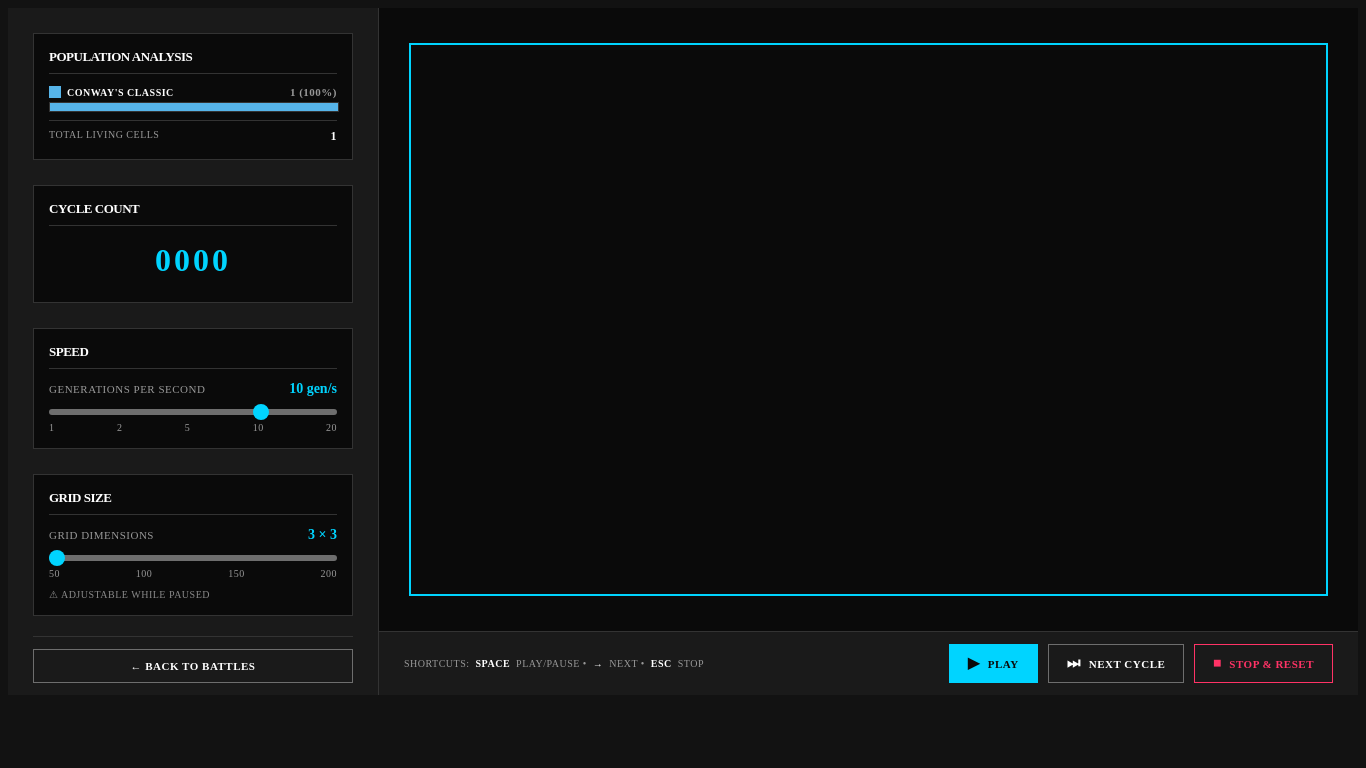
Scenario: BattleSimulationView — cycle counter & population stats (Story 3.14) › publishes the population deterministically as a lone Conway cell dies (AC1, AC3, AC6)
Expected: the number of list items is 1, [49, 86, 337, 112]
Expected: the text "Conway's Classic" is shown, [67, 86, 174, 98]
Click the button "⏭ Next cycle".
click(1116, 664)  # box [1048, 644, 1184, 683]
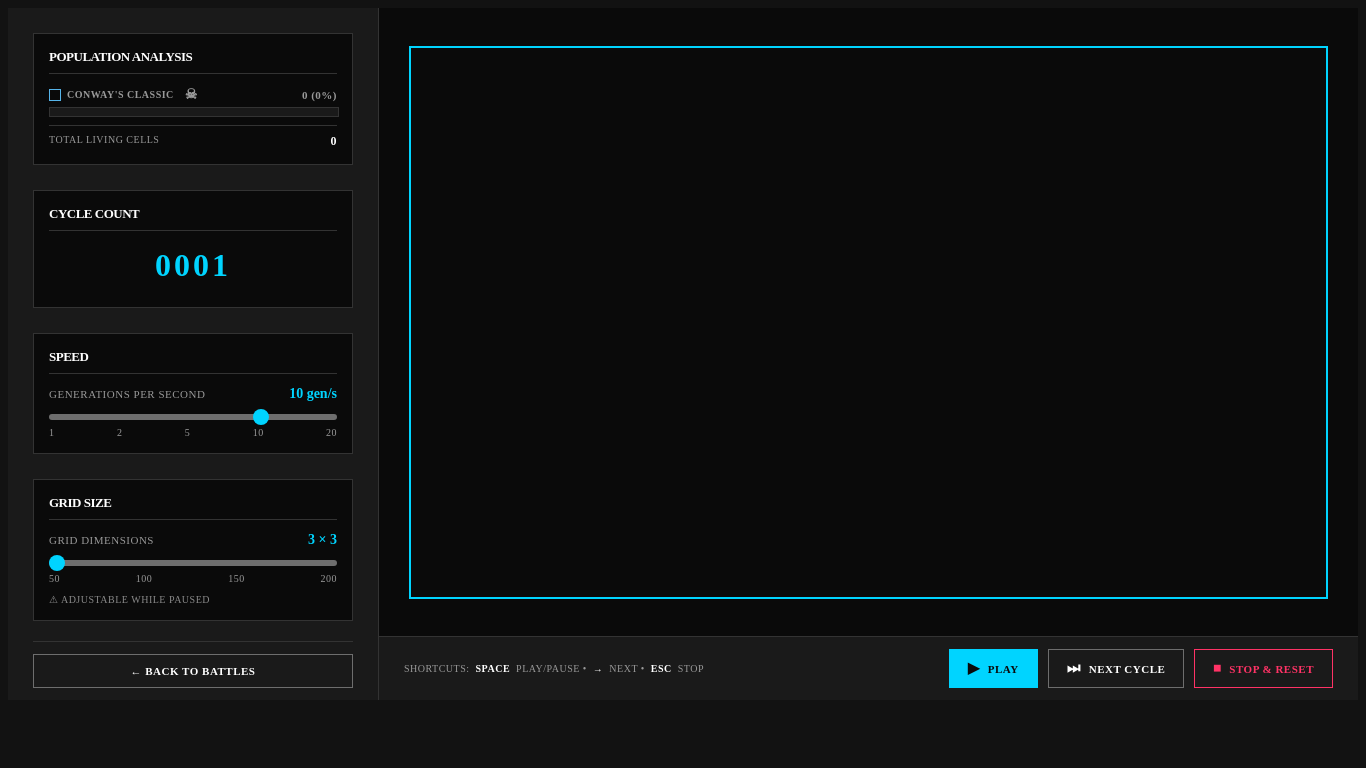
Result: the text "0 (0%)" is shown at [302, 88, 337, 100]
Result: the picture named "extinct" is shown at [185, 86, 198, 103]
